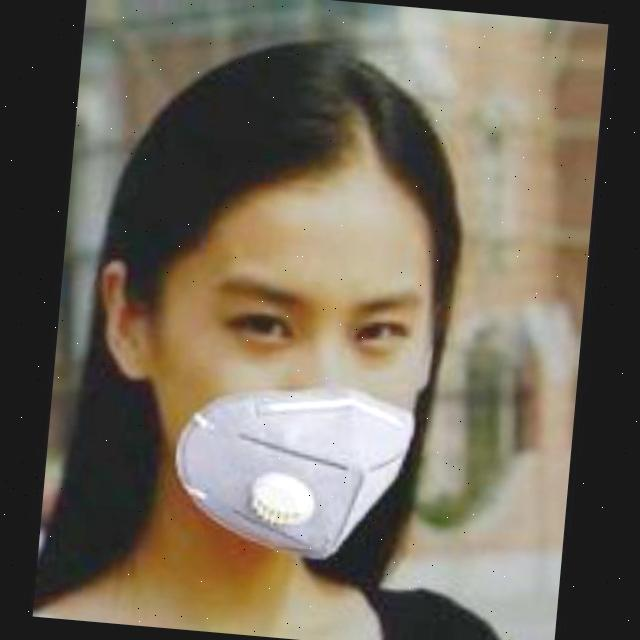suspicion: (55, 38, 493, 570)
